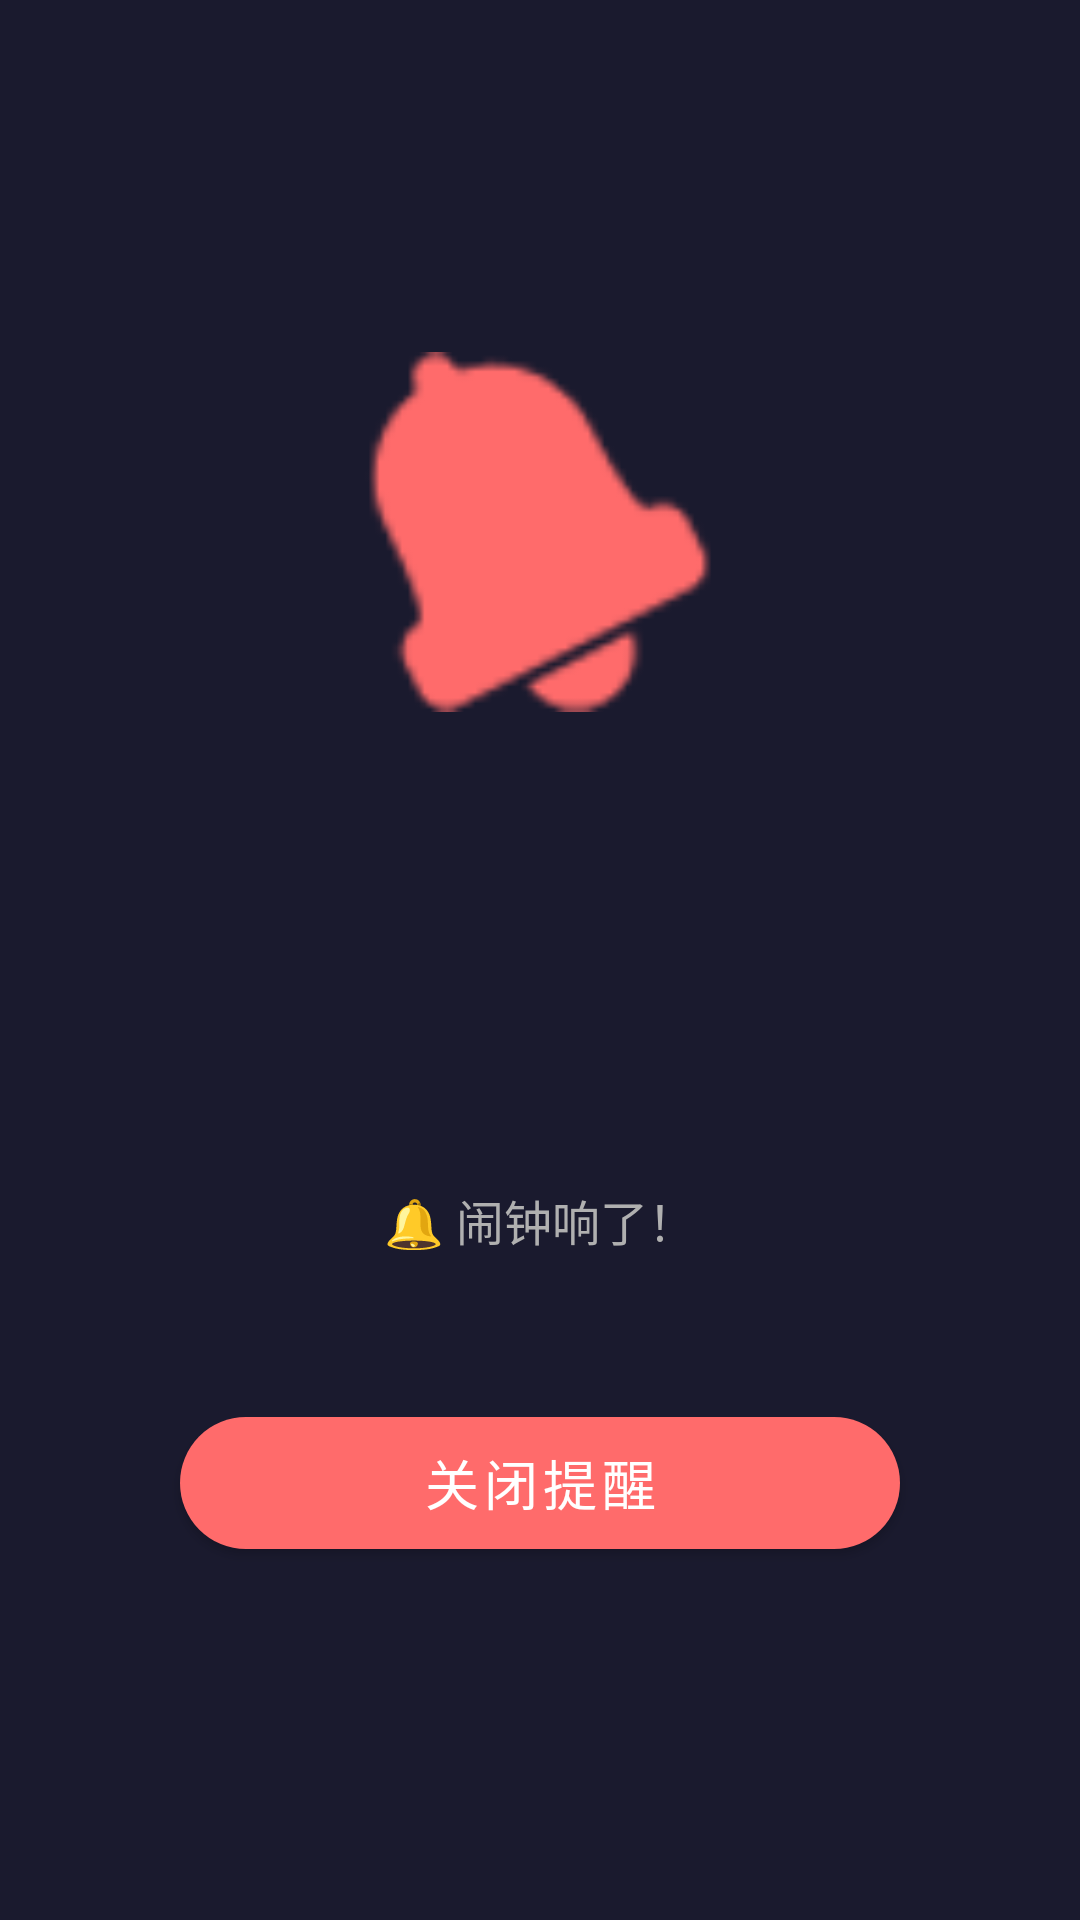

Locate icon controls on the screen. Image size 1080px x 1920px, boxes as (x1, y1, x2, y2).
Alarm icon: (370, 352, 710, 712)
